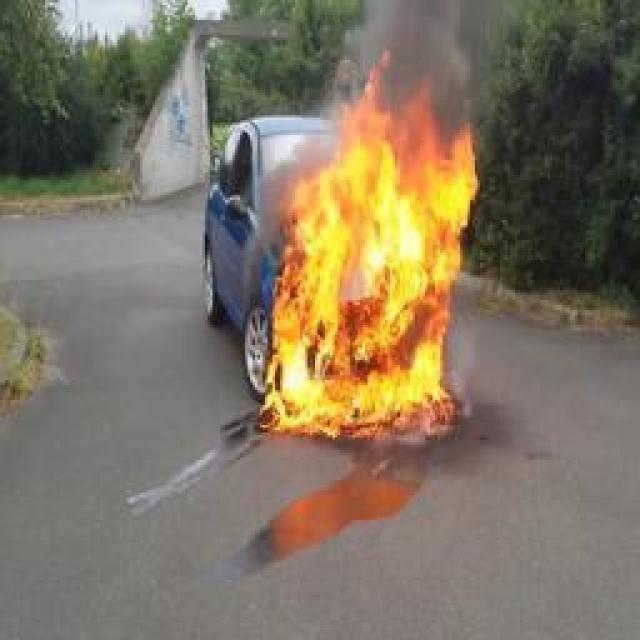Fire: (271, 45, 481, 435)
